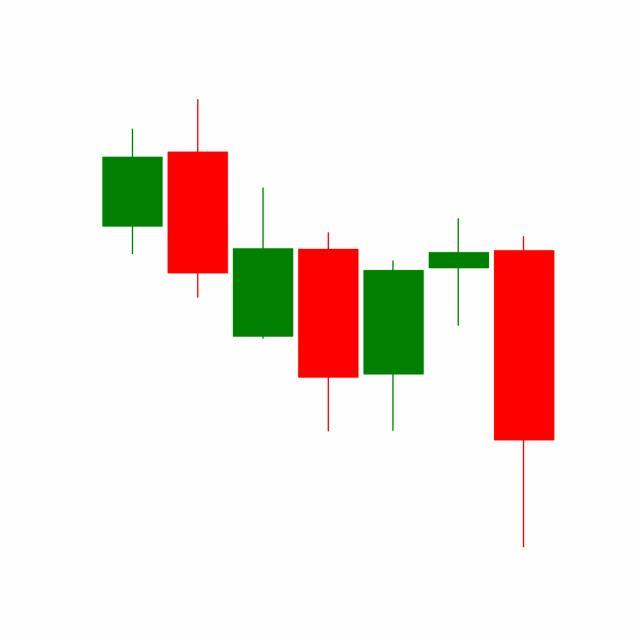Hikkake Pattern: (165, 100, 492, 438)
